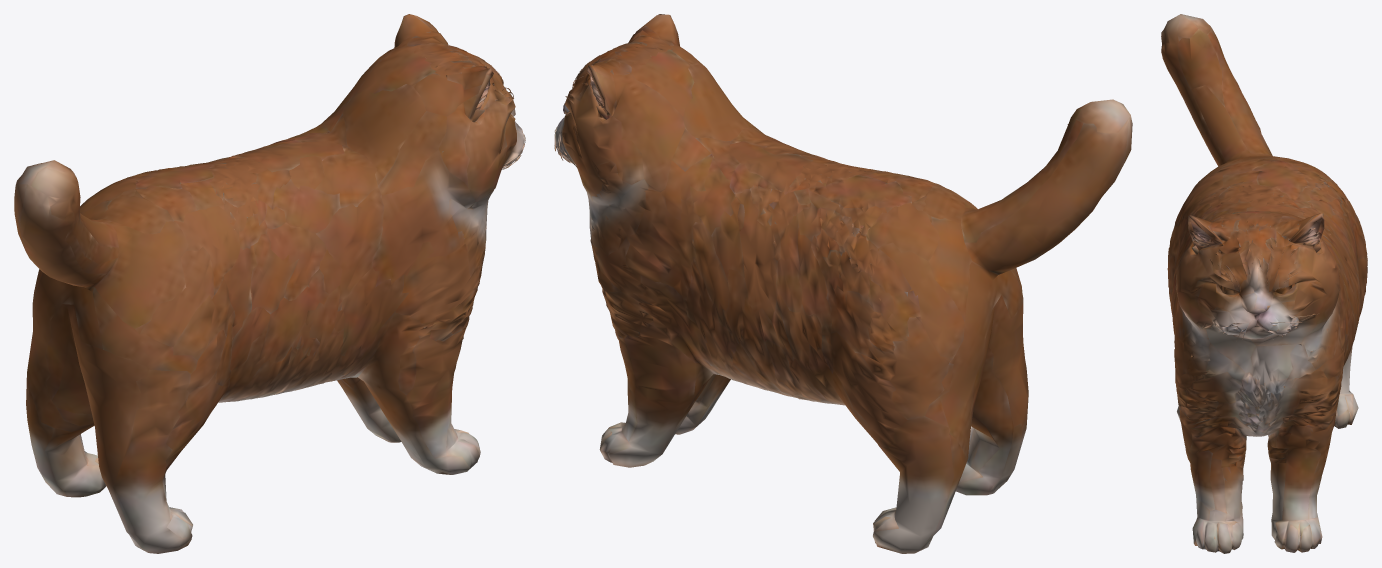
The model's file is PONTAKUN.glb.
3 views of the same model, side by side, from view 1: azimuth 30°, elevation 25°; view 2: azimuth 150°, elevation 25°; view 3: azimuth 270°, elevation 25° (orthographic). The views are drawn at different scales.
Visible parts, largest first — view 1: material; view 2: material; view 3: material.
Boxes of the visible parts, left/top/right/bottom form: material: left=14, top=14, right=525, bottom=553; material: left=554, top=14, right=1132, bottom=553; material: left=1161, top=14, right=1367, bottom=553.
Size of the model in its own units: 1.34 by 0.9971 by 0.5293.
Materials: 1 (1 with a texture image).
